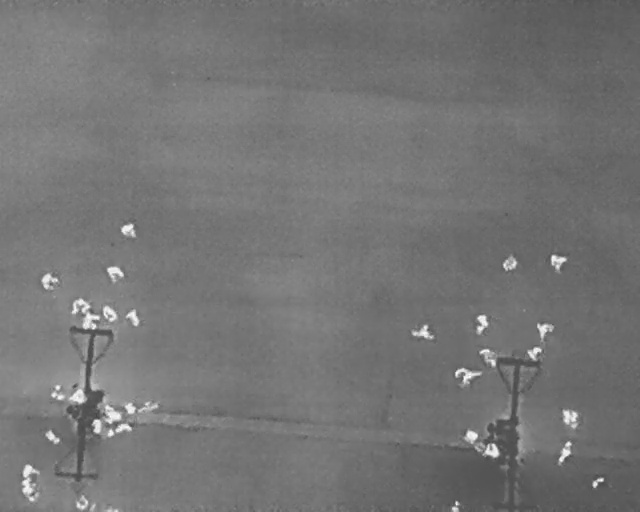Person: (15, 476, 42, 504), (104, 417, 133, 442), (408, 318, 437, 343), (454, 364, 483, 387), (556, 438, 577, 467), (121, 306, 143, 330), (98, 302, 120, 324), (40, 426, 63, 446), (561, 406, 581, 429), (535, 321, 554, 342), (480, 346, 497, 369), (68, 387, 88, 406), (102, 404, 121, 424), (549, 252, 567, 273), (106, 265, 126, 283), (41, 273, 60, 291), (501, 254, 518, 274), (474, 314, 489, 336), (81, 312, 99, 330), (119, 222, 138, 239), (73, 493, 90, 511), (590, 473, 608, 489), (49, 382, 64, 401), (21, 463, 40, 478), (483, 443, 499, 459), (527, 346, 543, 361), (464, 428, 479, 444), (77, 299, 91, 313), (90, 418, 102, 433), (123, 401, 136, 414), (70, 297, 79, 315), (450, 498, 462, 511)
